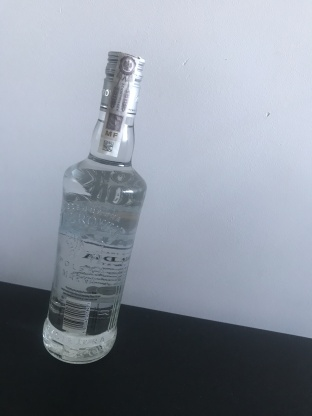nakretka: (98, 48, 147, 119)
